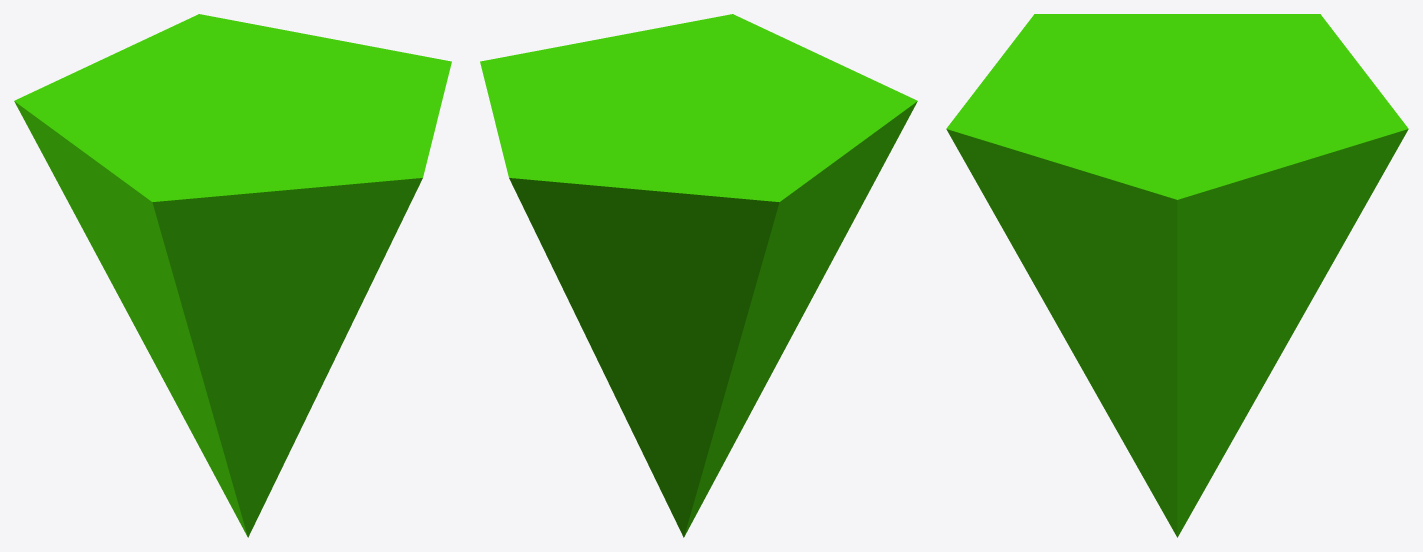
Rendered from indicador.fbx.
3 renders of one model, left to right at view 1: azimuth 30°, elevation 25°; view 2: azimuth 150°, elevation 25°; view 3: azimuth 270°, elevation 25°, orthographic. The views are drawn at different scales.
Visible parts, largest first — view 1: indicador; view 2: indicador; view 3: indicador.
Part boxes in pixels (x1=…): indicador: x1=14, y1=14, x2=451, y2=537; indicador: x1=480, y1=14, x2=917, y2=537; indicador: x1=946, y1=14, x2=1408, y2=537.
Size of the model in its own units: 0.4991 by 0.5518 by 0.5248.
